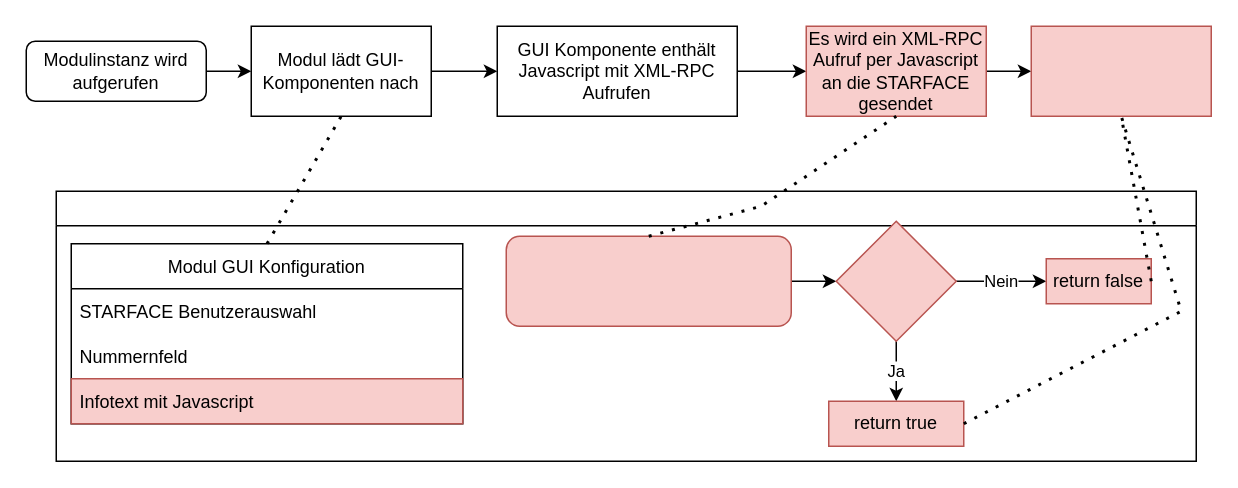
Image size: 1238x488. Some labels were removed from this diagram. Each missing label, with the box of its shape:
Beispielmodul: (55, 190, 1196, 461)
Ist Dienst in Betrieb?: (835, 220, 956, 341)
Javascript Verarbeitet die XML-RPC Antwort: (1030, 25, 1211, 116)
XML-RPC Einstiegspunkt getservicestate: (505, 235, 791, 326)
